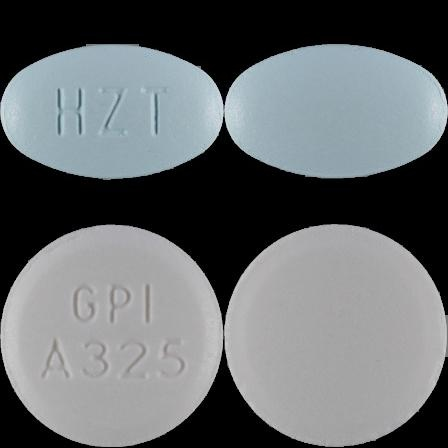75987-010: (0, 0, 224, 224)
